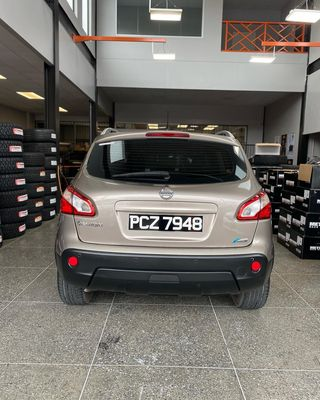License-Plate: (128, 213, 202, 229)
